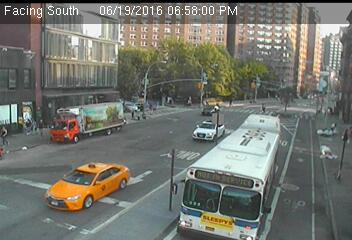neg: (336, 80, 351, 103)
